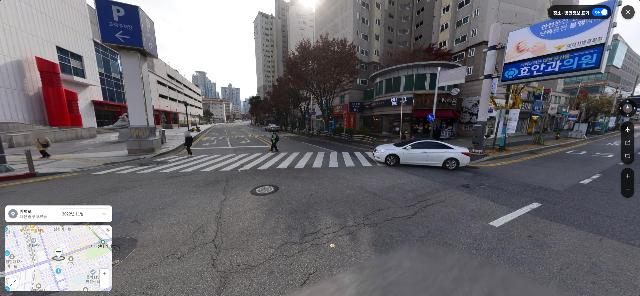ginkgo: (487, 83, 537, 152)
other: (292, 32, 358, 133), (281, 44, 312, 130), (568, 84, 607, 131), (268, 77, 301, 129), (259, 95, 278, 127), (247, 96, 265, 125)
